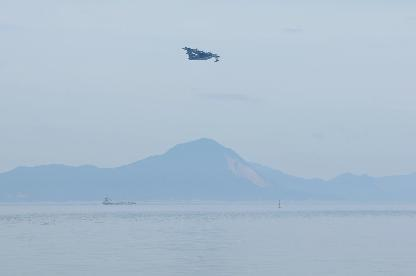Tu95: (182, 47, 220, 61)
